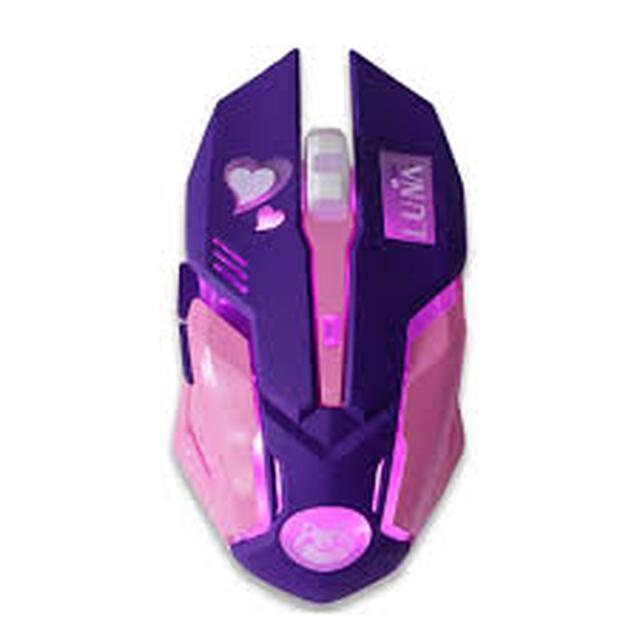mouse: (174, 32, 489, 602)
